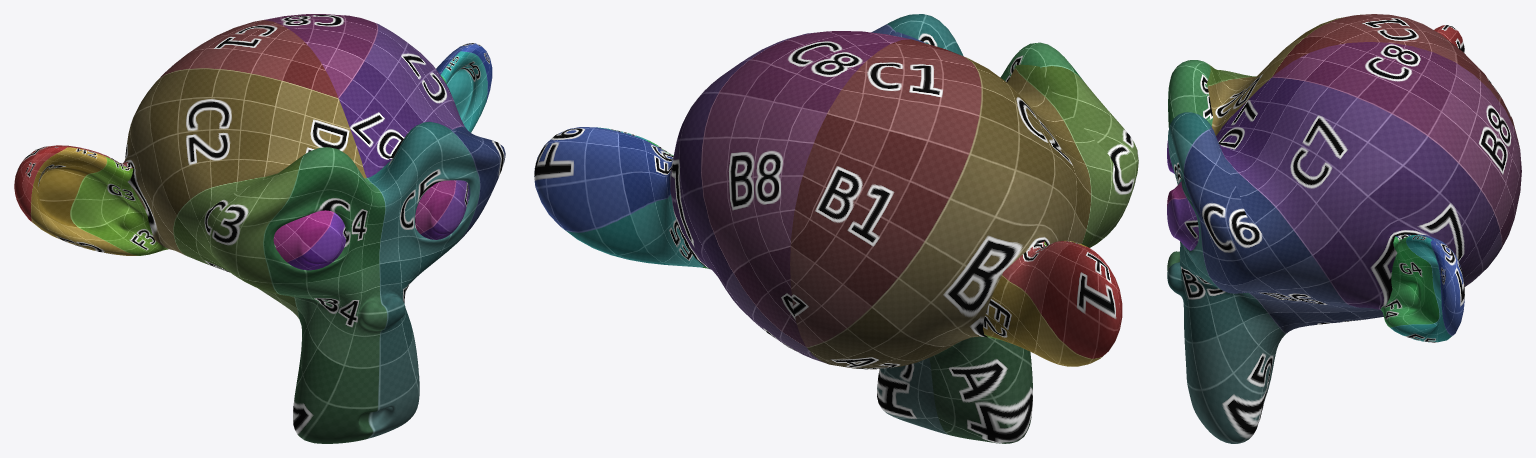
Rendered from monkey.glb.
3 views of the same model, side by side, from view 1: azimuth 30°, elevation 25°; view 2: azimuth 150°, elevation 25°; view 3: azimuth 270°, elevation 25° (orthographic). The views are drawn at different scales.
Visible parts, largest first — view 1: Suzanne; view 2: Suzanne; view 3: Suzanne.
Part boxes in pixels (x1,y1,x2,y2): Suzanne: [14, 14, 505, 443]; Suzanne: [534, 14, 1138, 443]; Suzanne: [1167, 14, 1521, 443].
Bounding box in the file's own units: 2.66 × 1.91 × 1.6.
Materials: 1 (1 with a texture image).
